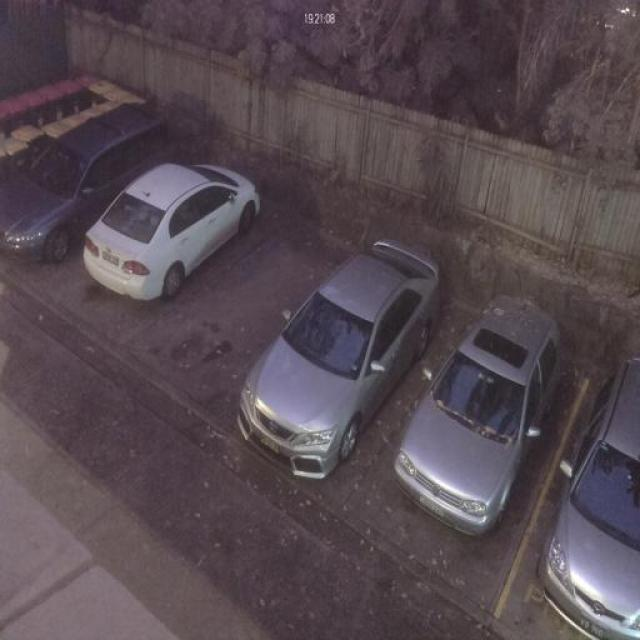Legalparking: (177, 303, 640, 638), (0, 62, 284, 318)
